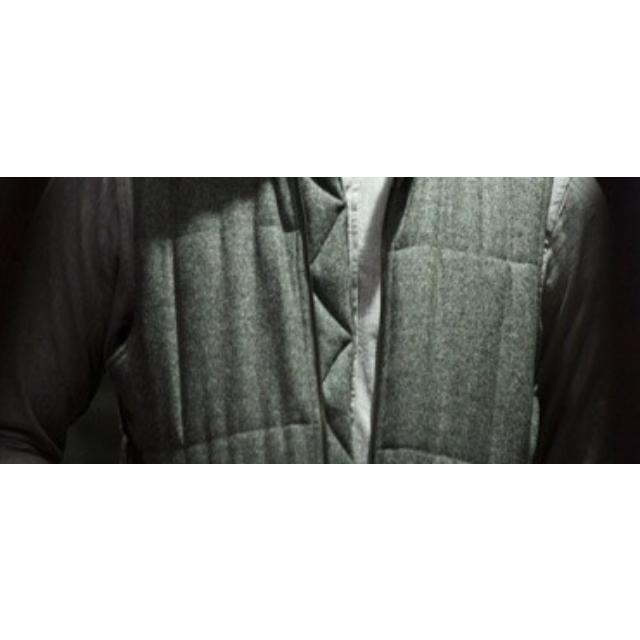wool: (1, 176, 620, 464)
